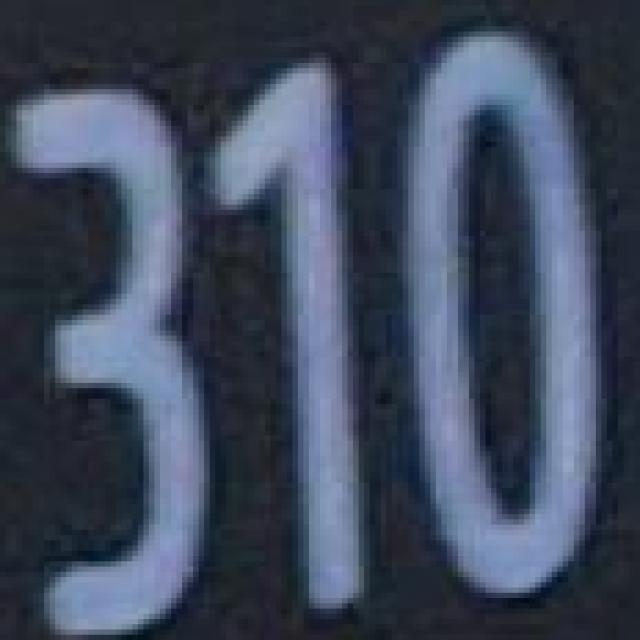character: (388, 24, 622, 621), (0, 78, 215, 640), (202, 46, 380, 626)
